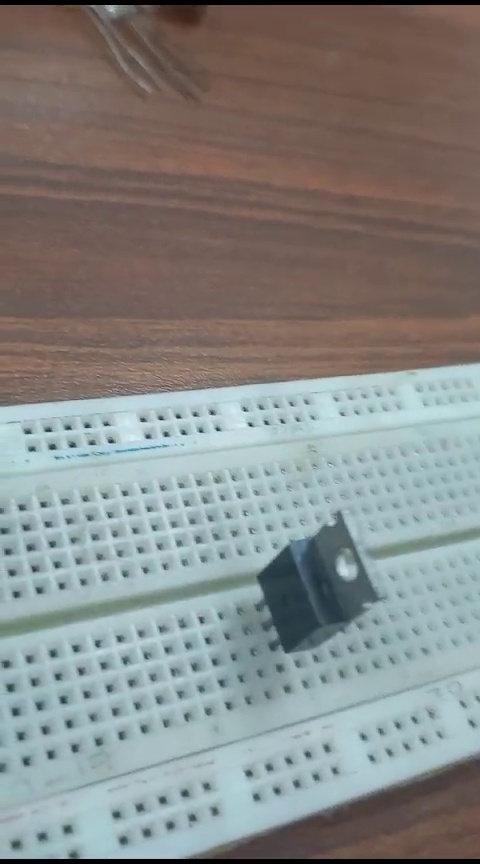voltage regulator: (240, 505, 390, 675)
